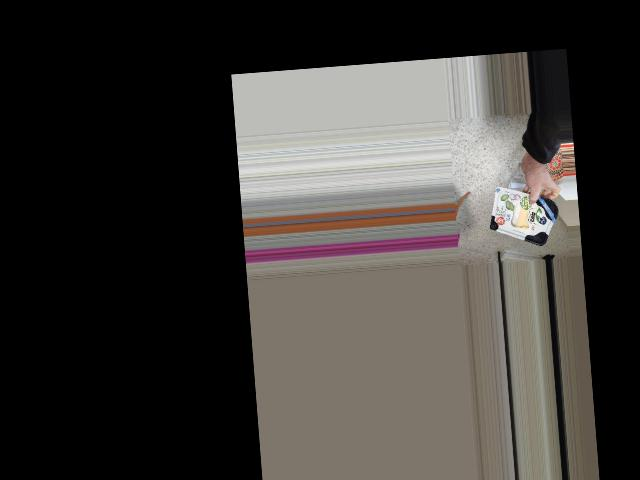cheese: (488, 192, 562, 244)
